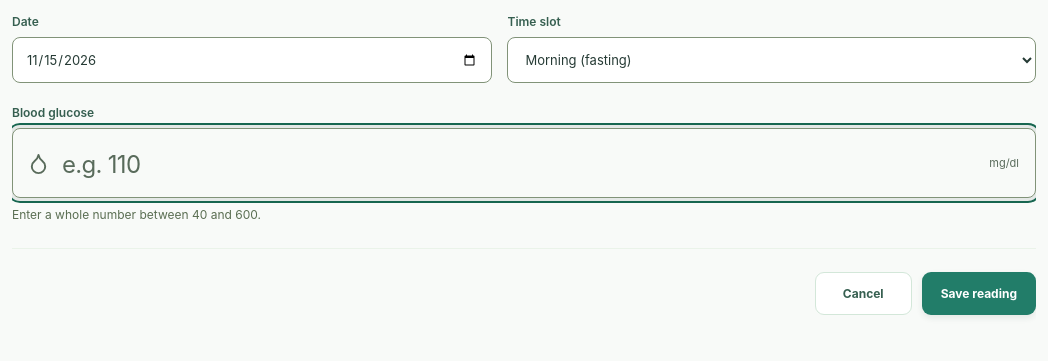
Reading form › clears a validation message when the user corrects that field
The width and height of the screenshot is (1048, 361).
Later steps or results of the test are not shown.
Step 1. Click the button "Save reading" → click(979, 294), box [922, 272, 1036, 315]
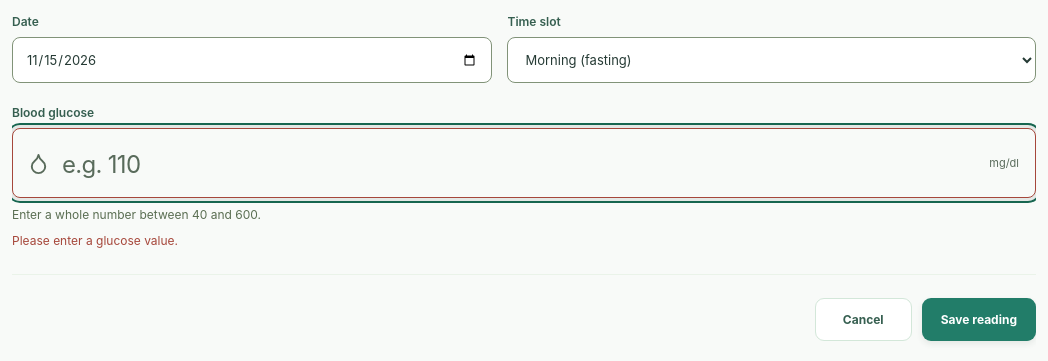
Expected: the text "Please enter a glucose value." is shown, [12, 233, 178, 248]
Step 2. Type "105" into the number field labelled "Blood glucose" → (524, 163), box [12, 128, 1036, 198]
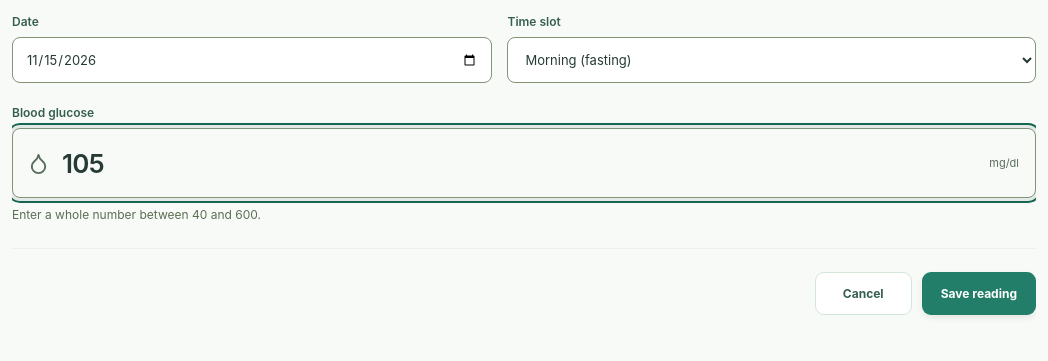
Expected: the text "Please enter a glucose value." is gone
